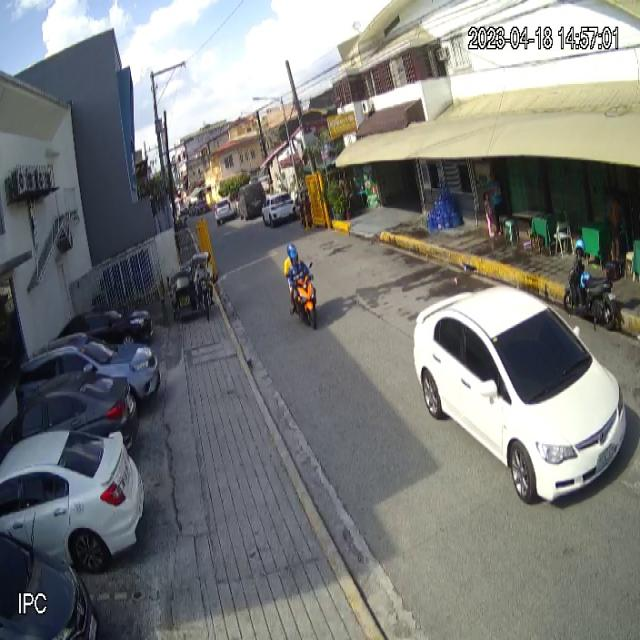Car: (414, 286, 626, 503)
Motorcycle: (563, 250, 625, 330), (285, 260, 317, 328)
Tricycle: (172, 251, 214, 321)
